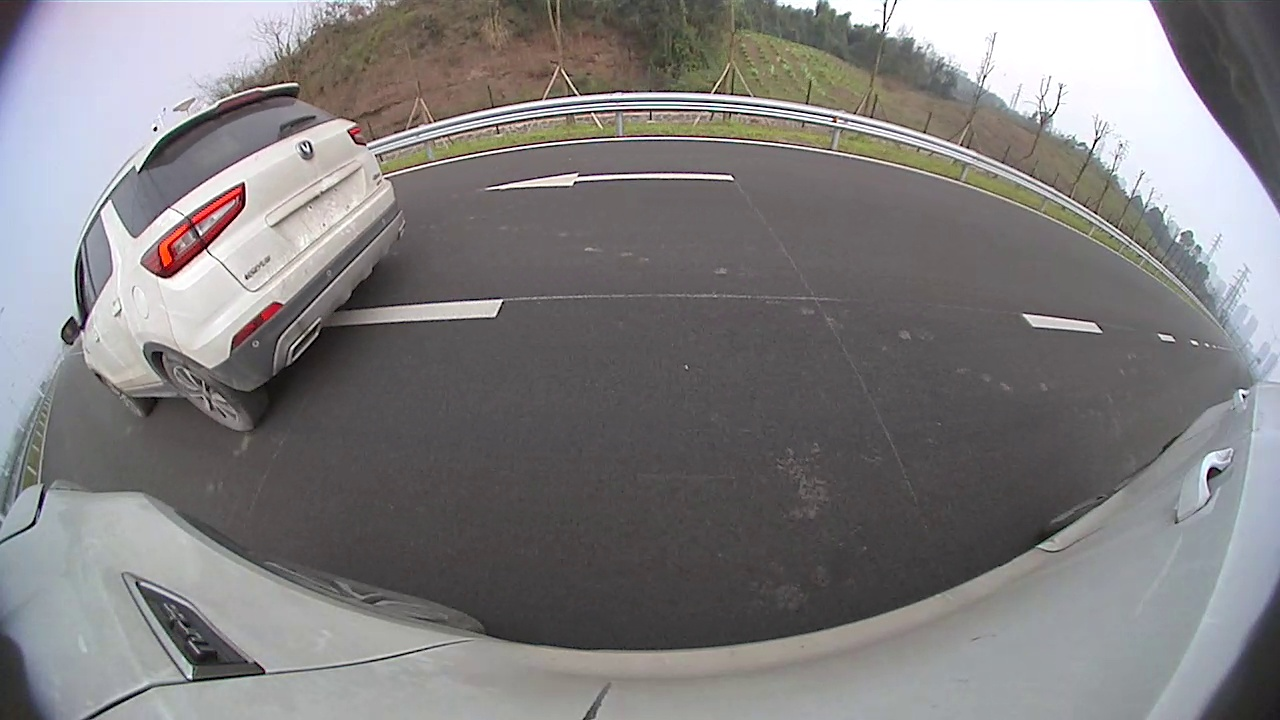car: (59, 82, 405, 433)
rear: (160, 351, 248, 427)
